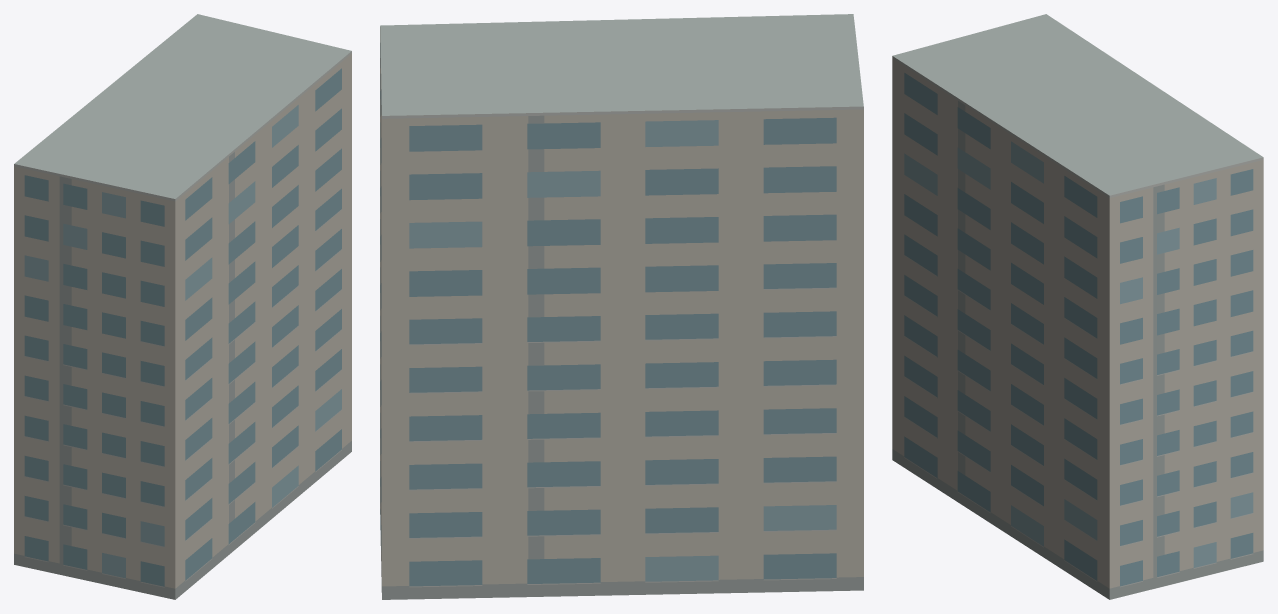
Rendered from residential-309c2dc3-b284-466e-bc2d-33ee8ef1a8ae.glb.
3 views of the same model, side by side, from view 1: azimuth 30°, elevation 25°; view 2: azimuth 150°, elevation 25°; view 3: azimuth 270°, elevation 25° (orthographic). The views are drawn at different scales.
Parts seen in each view (by area): view 1: residential-309c2dc3-b284-466e-bc2d-33ee8ef1a8ae.tmp; view 2: residential-309c2dc3-b284-466e-bc2d-33ee8ef1a8ae.tmp; view 3: residential-309c2dc3-b284-466e-bc2d-33ee8ef1a8ae.tmp.
Part boxes in pixels (box(x1,y1,x2,y2)): residential-309c2dc3-b284-466e-bc2d-33ee8ef1a8ae.tmp: box(14, 14, 351, 599); residential-309c2dc3-b284-466e-bc2d-33ee8ef1a8ae.tmp: box(380, 14, 863, 599); residential-309c2dc3-b284-466e-bc2d-33ee8ef1a8ae.tmp: box(892, 14, 1263, 599).
Bounding box in the file's own units: 38.57 × 40 × 33.32.
